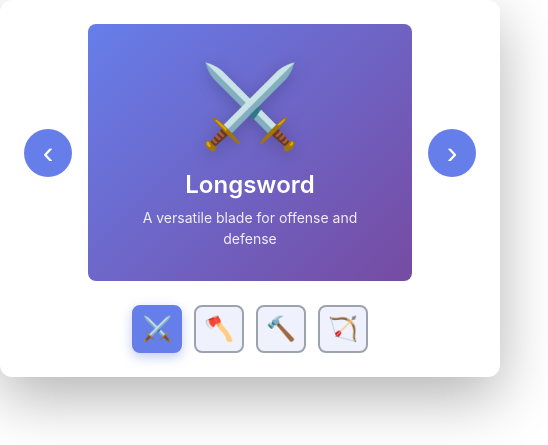
Test: WeaponPicker › wraps around when navigating past the last weapon
The width and height of the screenshot is (548, 445).
Note: Click through all weapons
Click the button named "Next weapon". click: (452, 152)
box: x1=428 y1=128 x2=476 y2=176
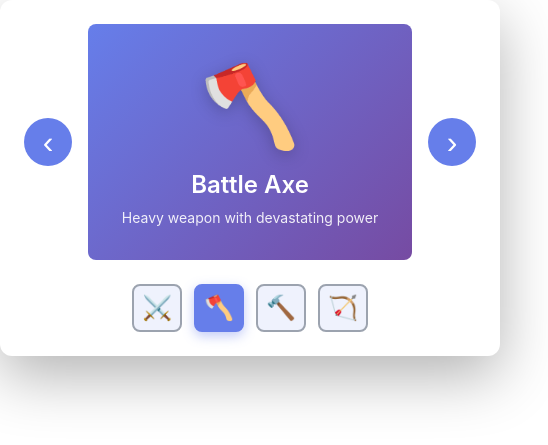
Click the button named "Next weapon". click: (452, 142)
box: x1=428 y1=118 x2=476 y2=166
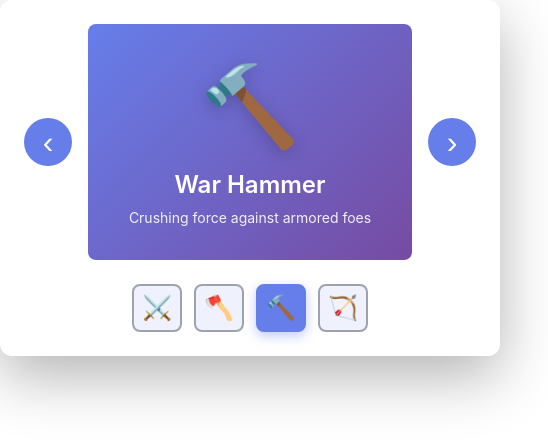
Click the button named "Next weapon". click: (452, 142)
box: x1=428 y1=118 x2=476 y2=166
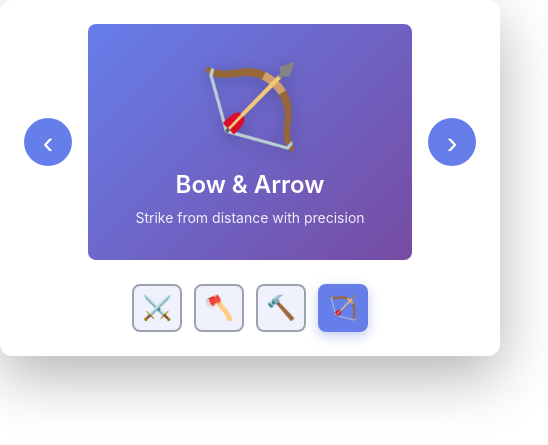
Click the button named "Next weapon". click: (452, 142)
box: x1=428 y1=118 x2=476 y2=166
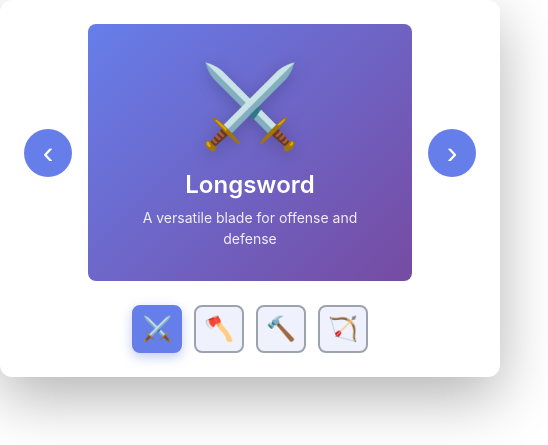
Expected: the heading "Longsword" is shown, x1=185 y1=170 x2=315 y2=199
